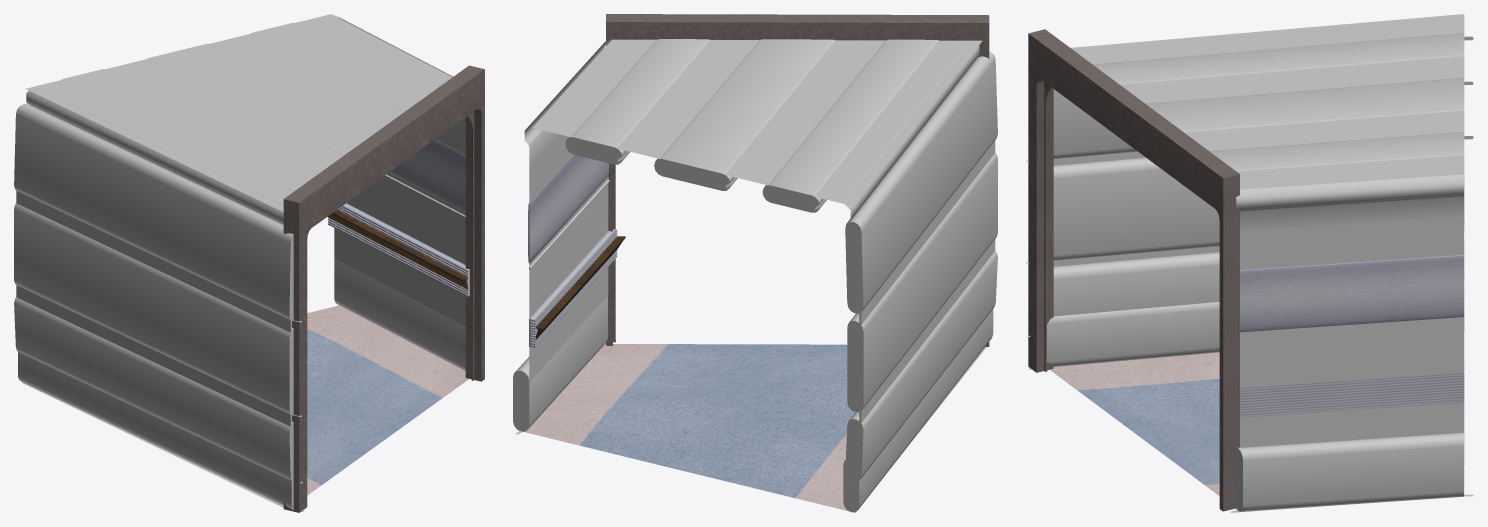
Rendered from GalaxyCorridorLeftTurn.fbx.
The picture shows the model from 3 angles, left to right: view 1: azimuth 30°, elevation 25°; view 2: azimuth 150°, elevation 25°; view 3: azimuth 270°, elevation 25°; orthographic projection. The views are drawn at different scales.
Visible parts, largest first — view 1: ChamferBox64; view 2: ChamferBox64; view 3: ChamferBox64.
Boxes of the visible parts, <box> form: ChamferBox64: <box>14,14,484,512</box>; ChamferBox64: <box>513,14,997,512</box>; ChamferBox64: <box>1026,14,1473,512</box>.
Size of the model in its own units: 313 by 256 by 311.
